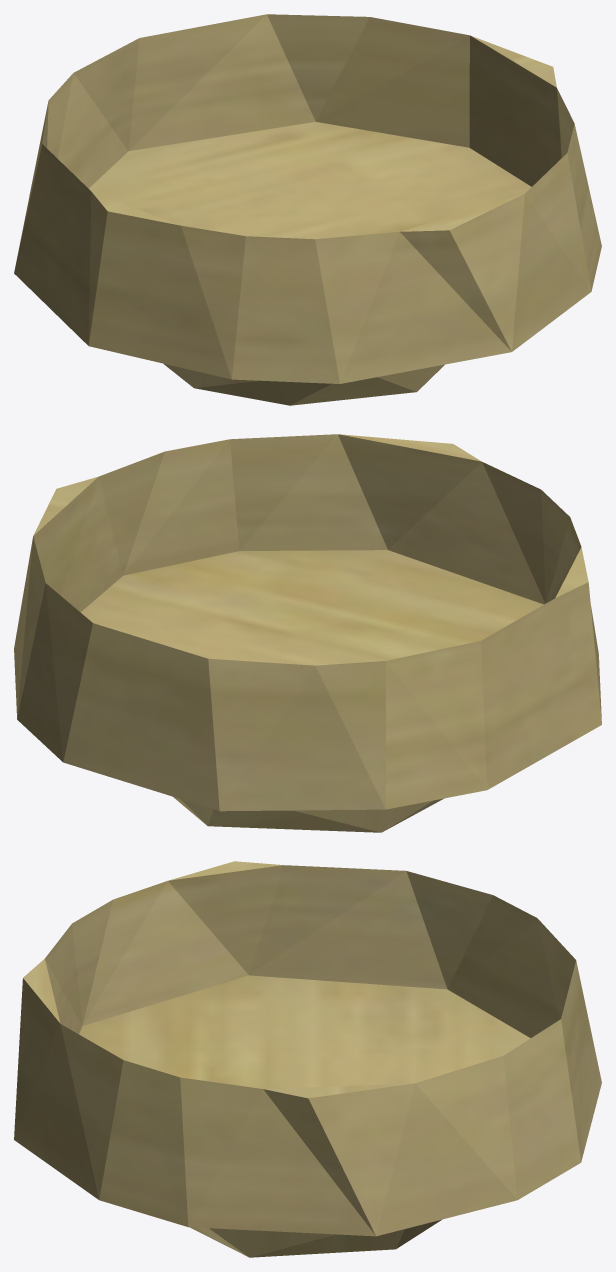
Rendered from basin.dae.
The picture shows the model from 3 angles, top to bottom: view 1: azimuth 30°, elevation 25°; view 2: azimuth 150°, elevation 25°; view 3: azimuth 270°, elevation 25°; orthographic projection. The views are drawn at different scales.
Visible parts, largest first — view 1: node; view 2: node; view 3: node.
Boxes of the visible parts, bbox=[...] form: node: bbox=[14, 14, 601, 405]; node: bbox=[14, 434, 601, 832]; node: bbox=[14, 861, 601, 1257].
Bounding box in the file's own units: 0.2388 × 0.0949 × 0.2385.
1 material, 1 textured.
